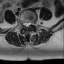CCS_normal: (26, 20, 28, 29)
LFS_normal: (30, 20, 32, 26)
LLS_normal: (28, 20, 30, 27)
RFS_normal: (22, 19, 24, 26)
RLS_normal: (24, 20, 26, 28)
